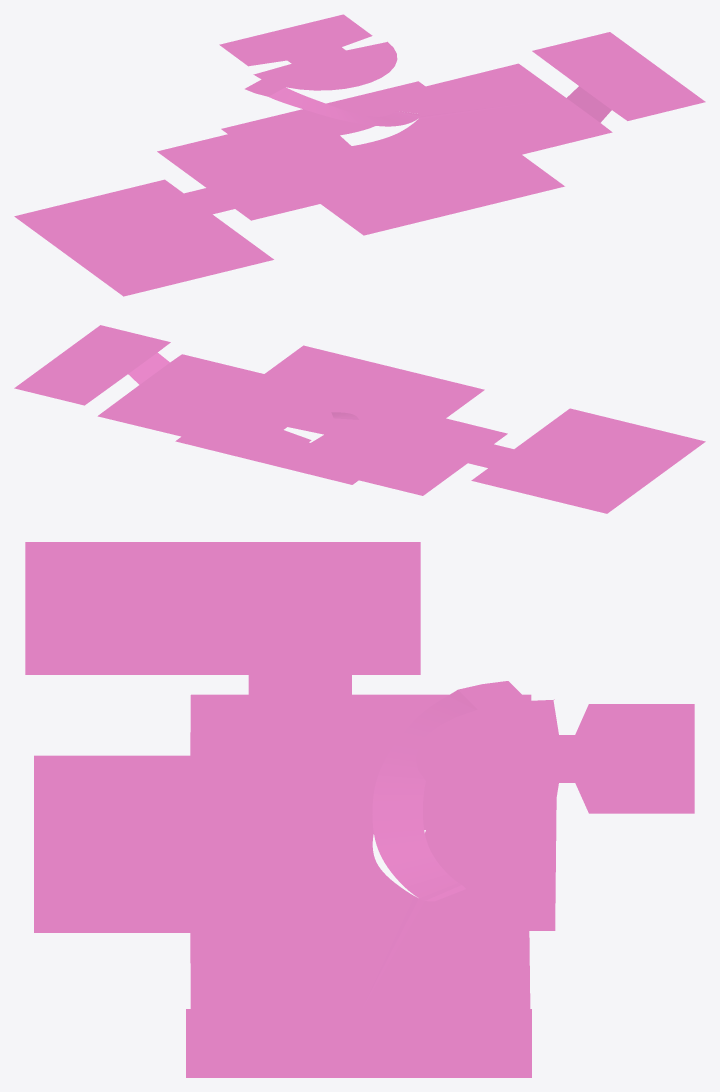
Rendered from navmesh.glb.
3 views of the same model, one above another, from view 1: azimuth 30°, elevation 25°; view 2: azimuth 150°, elevation 25°; view 3: azimuth 270°, elevation 25° (orthographic). The views are drawn at different scales.
Parts seen in each view (by area): view 1: navmesh; view 2: navmesh; view 3: navmesh.
Boxes of the visible parts, <box> form: navmesh: <box>14,14,705,296</box>; navmesh: <box>14,325,705,513</box>; navmesh: <box>25,542,694,1077</box>.
Bounding box in the file's own units: 36.02 × 2.61 × 18.47.
